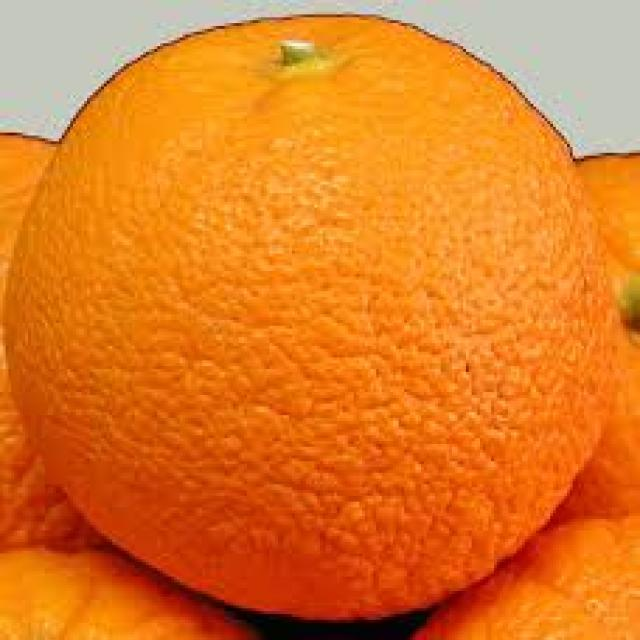organic waste: (3, 11, 620, 622), (0, 127, 140, 548), (399, 519, 637, 637), (0, 545, 261, 637), (576, 150, 638, 522)
